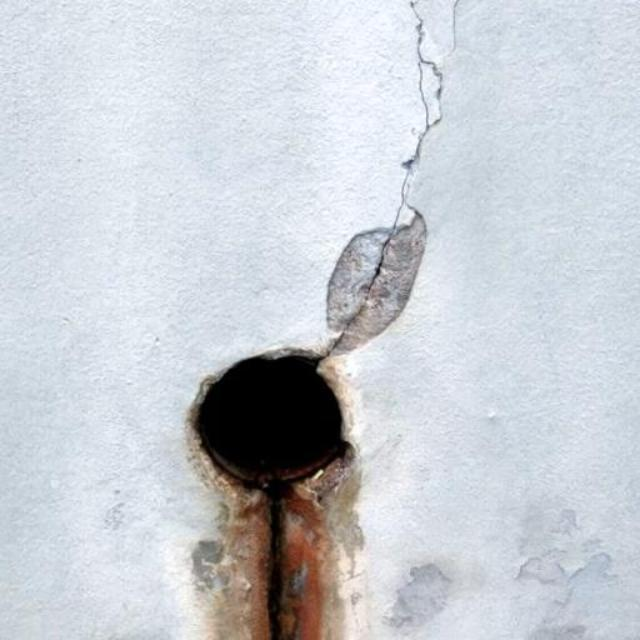D10: (322, 210, 428, 357)
